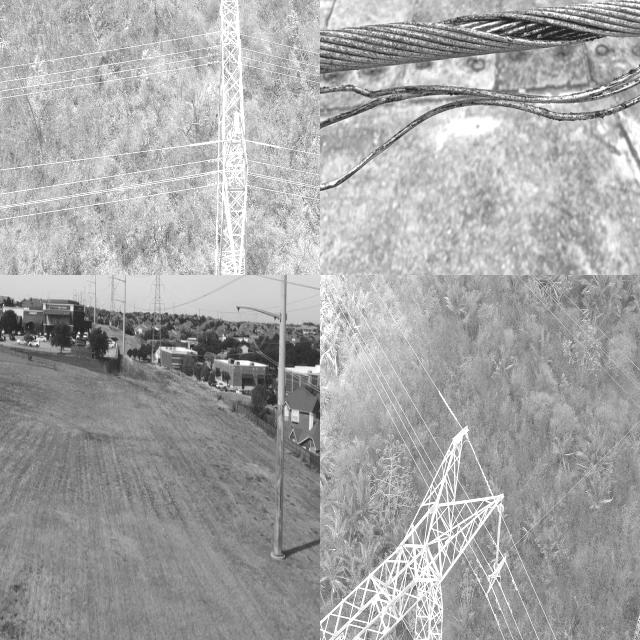杆塔: (320, 412, 512, 640), (188, 0, 270, 275), (148, 275, 166, 367), (106, 275, 118, 322)
正常绝缘子: (250, 316, 277, 365), (242, 318, 263, 359), (493, 503, 504, 572)
电缆破损: (320, 39, 640, 197)
